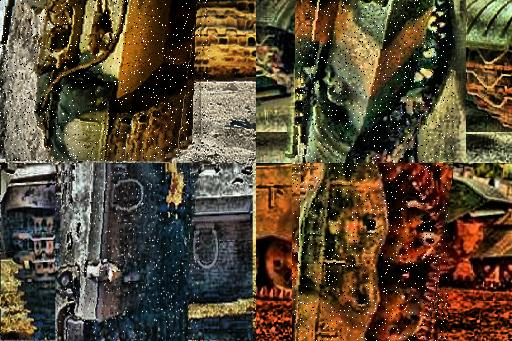tanks: (293, 164, 449, 341), (29, 1, 190, 162), (297, 1, 455, 164), (56, 169, 200, 341)
